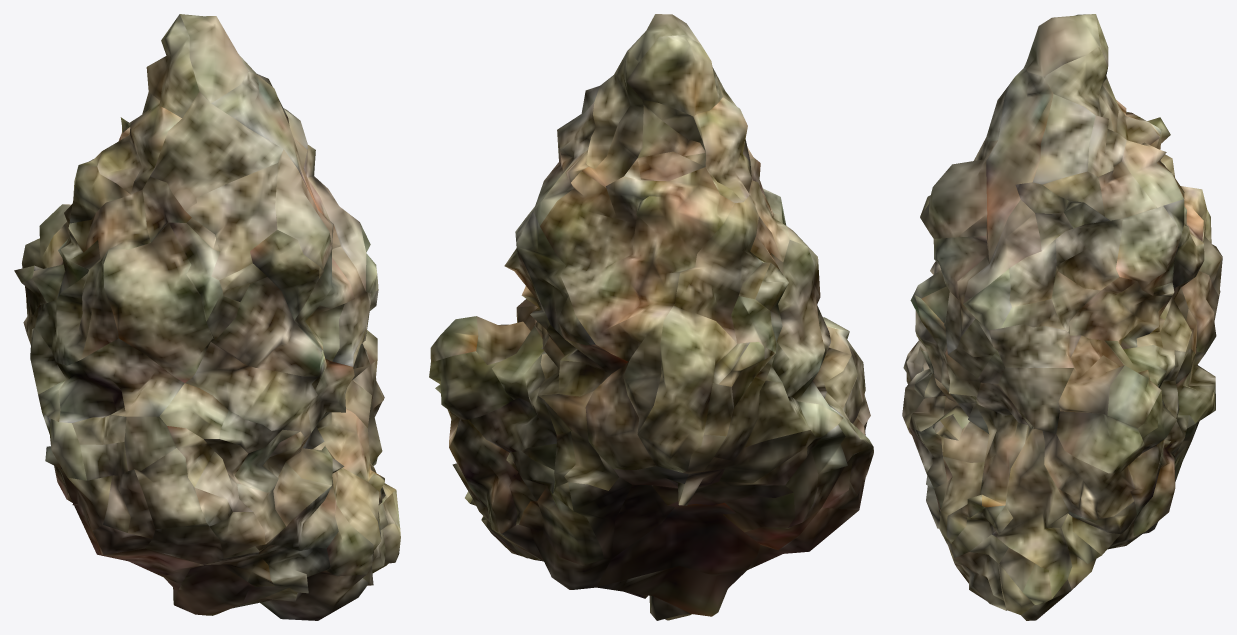
File: nug.glb
3 renders of one model, left to right at view 1: azimuth 30°, elevation 25°; view 2: azimuth 150°, elevation 25°; view 3: azimuth 270°, elevation 25°, orthographic. The views are drawn at different scales.
Parts seen in each view (by area): view 1: Object_4; view 2: Object_4; view 3: Object_4.
Boxes of the visible parts, x1,y1,x2,y2 form: Object_4: (14, 14, 400, 620); Object_4: (429, 14, 873, 620); Object_4: (902, 14, 1222, 620).
Bounding box in the file's own units: 0.1341 × 0.2101 × 0.1099.
1 material, 1 textured.
